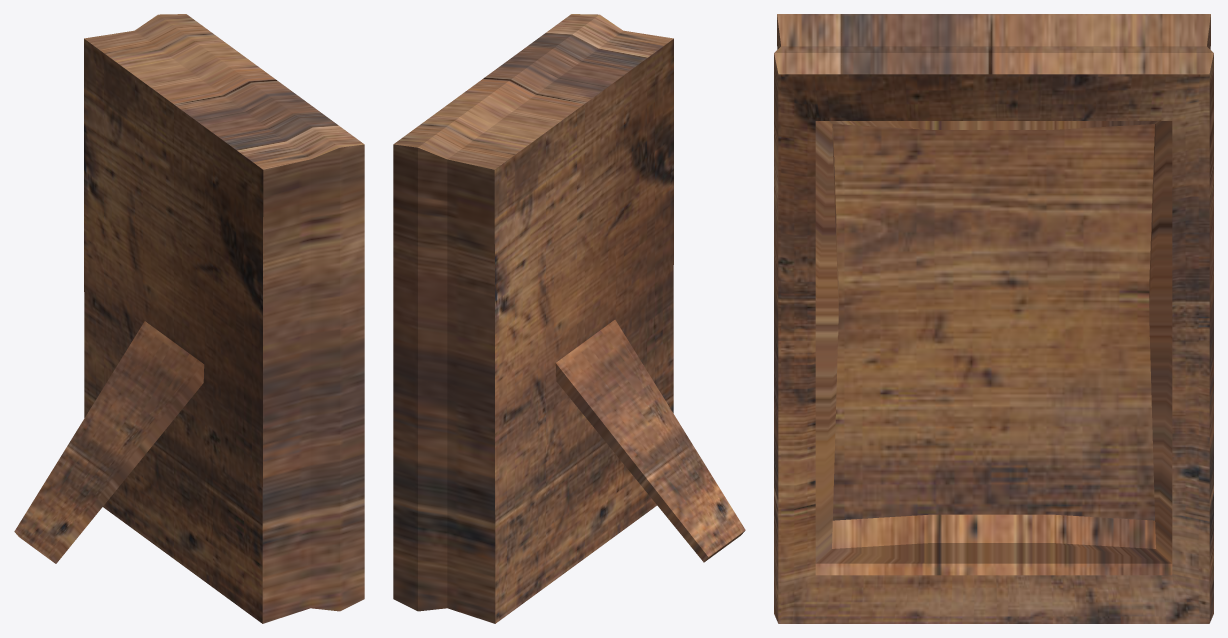
Rendered from photo frame.fbx.
3 renders of one model, left to right at view 1: azimuth 30°, elevation 25°; view 2: azimuth 150°, elevation 25°; view 3: azimuth 270°, elevation 25°, orthographic. The views are drawn at different scales.
Parts seen in each view (by area): view 1: paint.001; view 2: paint.001; view 3: paint.001.
Part boxes in pixels (x1,y1,x2,y2): paint.001: (14,14,364,623); paint.001: (393,14,745,623); paint.001: (774,14,1213,623).
Size of the model in its own units: 24.6 by 44.72 by 31.78.
1 material, 1 textured.
